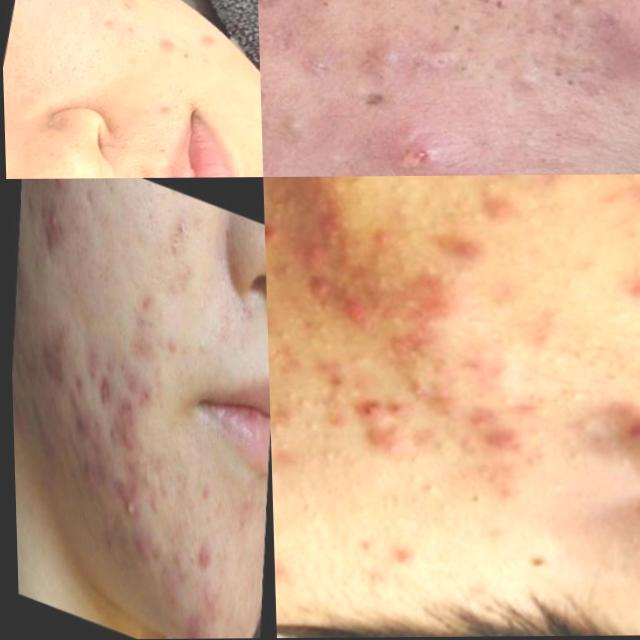8: (321, 278, 382, 332), (372, 126, 435, 176), (427, 227, 488, 273), (602, 252, 640, 313), (335, 391, 402, 425), (480, 425, 531, 465), (282, 235, 330, 274), (186, 530, 215, 588), (475, 200, 518, 230), (623, 24, 640, 96), (360, 428, 399, 459), (262, 218, 289, 260), (614, 409, 640, 452)
9: (42, 195, 64, 251)
blackheads: (32, 325, 70, 395), (111, 479, 143, 539), (110, 391, 135, 463), (90, 367, 115, 414), (86, 12, 129, 38), (144, 31, 182, 56), (187, 30, 228, 52)
dark spot: (430, 113, 510, 177), (407, 43, 486, 98), (537, 61, 595, 100), (424, 11, 481, 43), (294, 0, 343, 23), (458, 0, 514, 18)
